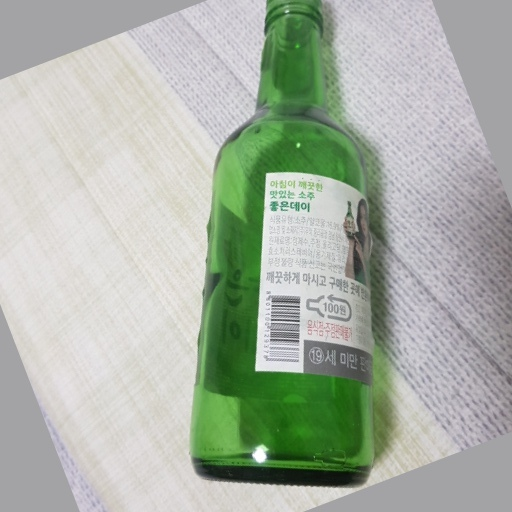Glass_0: (187, 1, 381, 493)
